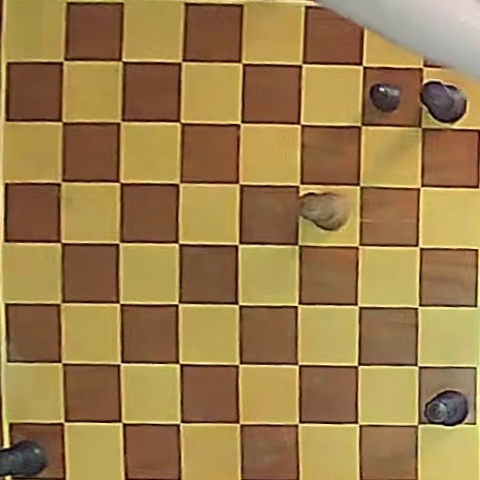black-king: (419, 81, 467, 123)
black-pawn: (369, 82, 403, 112)
black-queen: (0, 440, 48, 478), (424, 390, 468, 426)
white-king: (301, 192, 350, 230)
